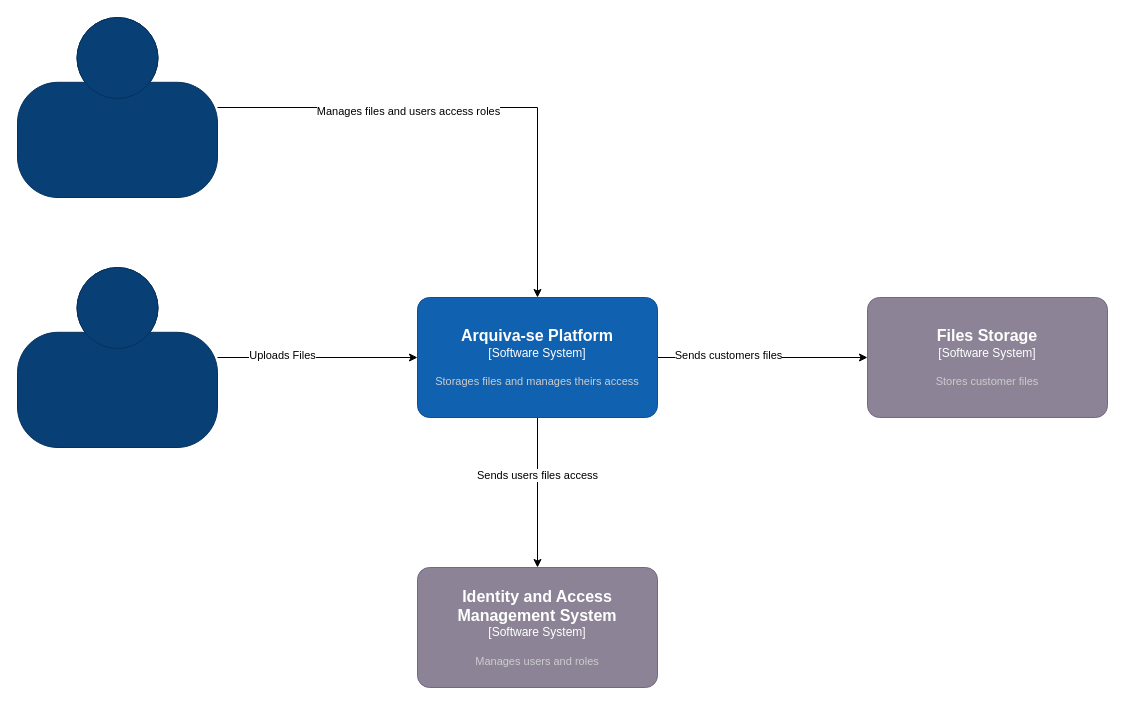
Some shapes in this 1125 by 705 pixel diagram are drawn without their labels. The shapes that lost their labels are listed below. From the top down, each one's centre as x and y in pixels, then its label:
At (117,107): "User [Person] A person which can manages files".
At (117,357): "Sending Service [Person] Sends customers servers files.".
